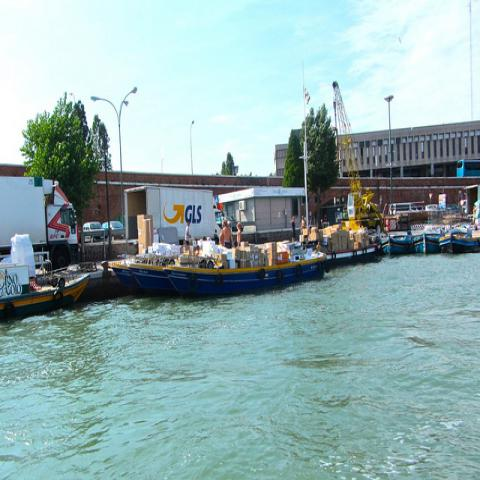car: (389, 208, 429, 230), (102, 222, 124, 241), (83, 223, 106, 240)
truck: (0, 175, 80, 272), (125, 186, 226, 248)
